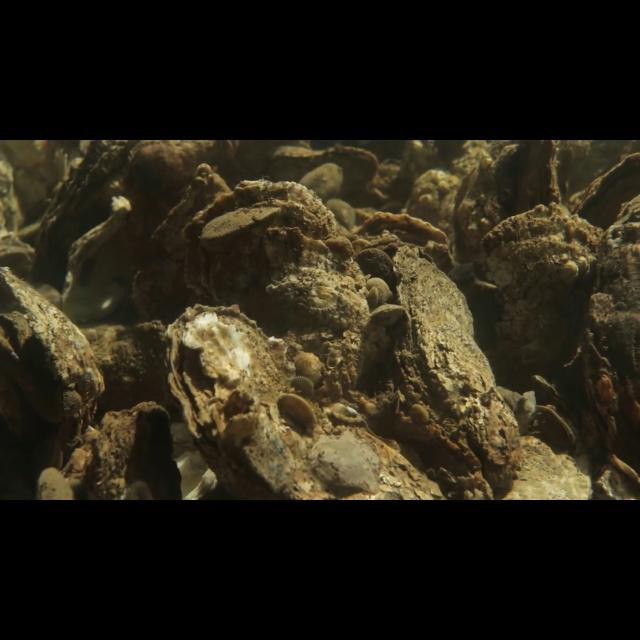Oyster-Closed: (158, 296, 446, 499), (182, 180, 375, 402), (384, 238, 531, 499), (473, 195, 608, 379), (2, 256, 113, 458), (129, 157, 233, 322), (30, 141, 127, 283), (57, 397, 188, 498), (57, 207, 143, 322), (267, 143, 384, 203), (195, 199, 287, 258), (491, 140, 564, 212), (568, 148, 639, 217), (535, 401, 576, 450)
Oyster-Open: (348, 208, 456, 275)
